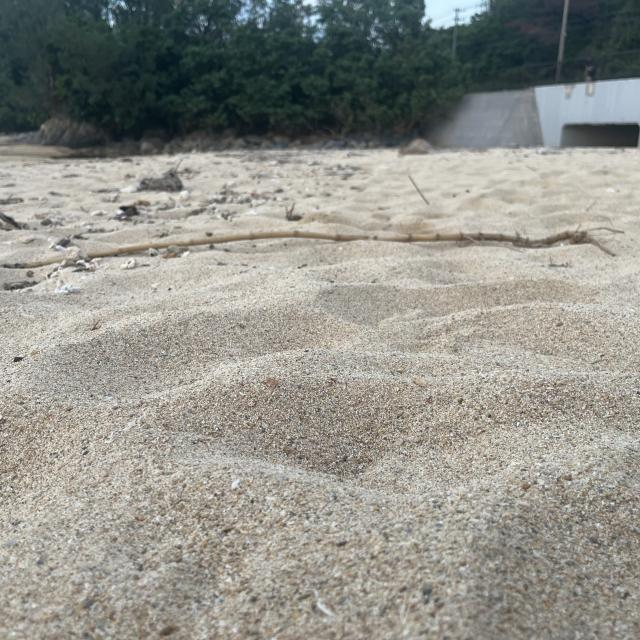stick: (0, 206, 625, 261)
